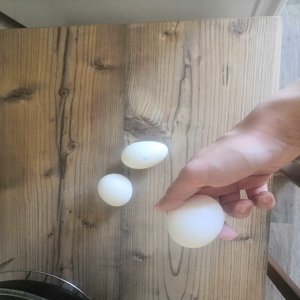white egg: (164, 193, 226, 249), (120, 140, 169, 169), (97, 173, 133, 207)
